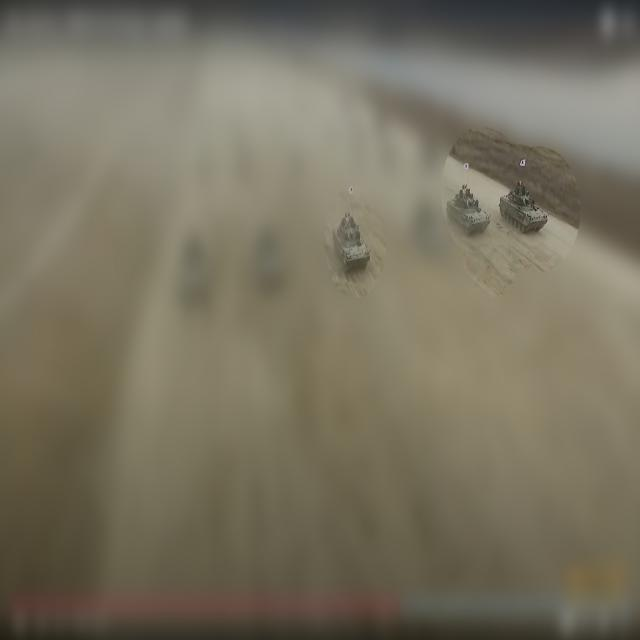tank: (445, 162, 492, 234), (499, 180, 549, 233), (331, 211, 372, 272)
